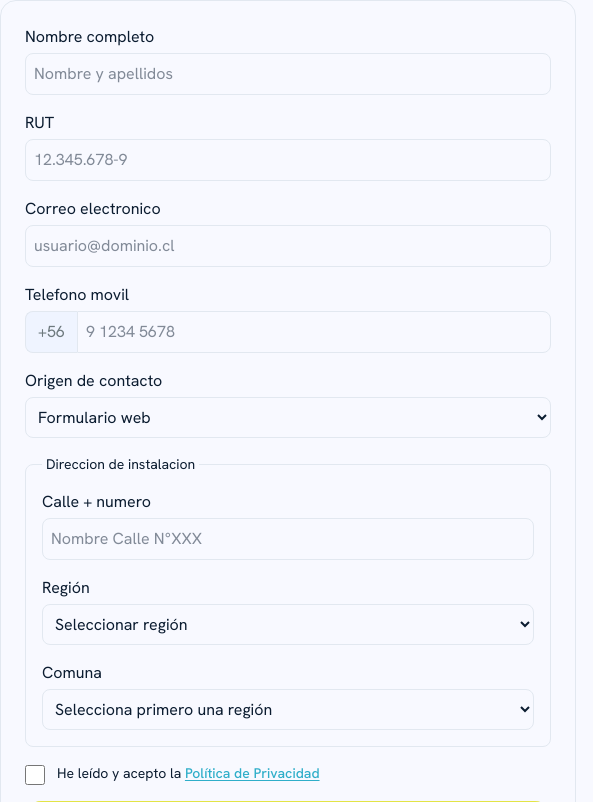
CU-75: formulario de contratación › teléfono, como lo escribe o pega una persona › pegar +56 9 1234 5678 deja 9 1234 5678
Click the field labelled "Telefono movil".
click(314, 332)  # box [77, 311, 551, 353]
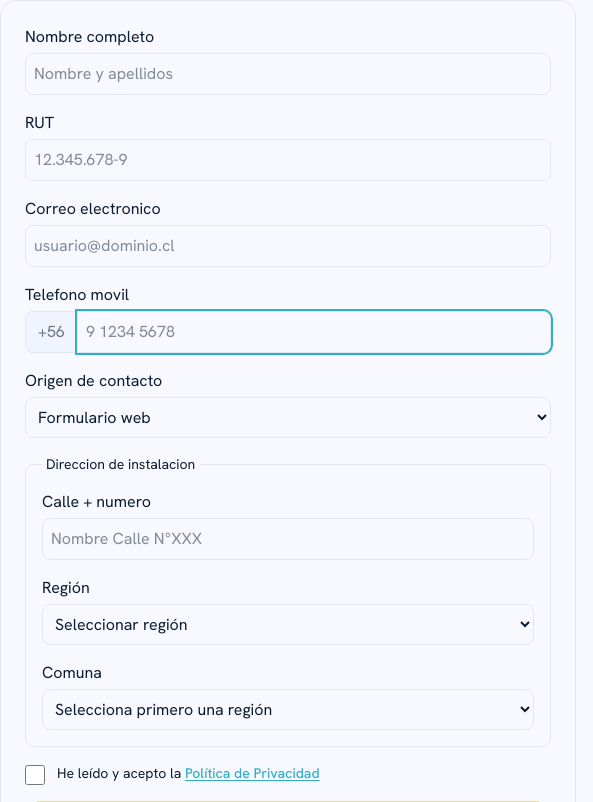
Type keys "+56 9 1234 5678"
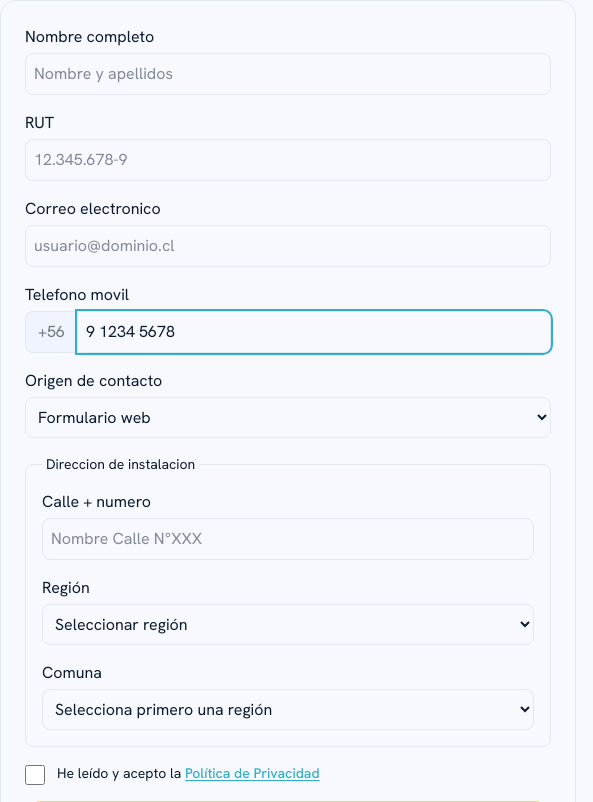
expect the field labelled "Telefono movil" holds "9 1234 5678": met, box [77, 311, 551, 353]
